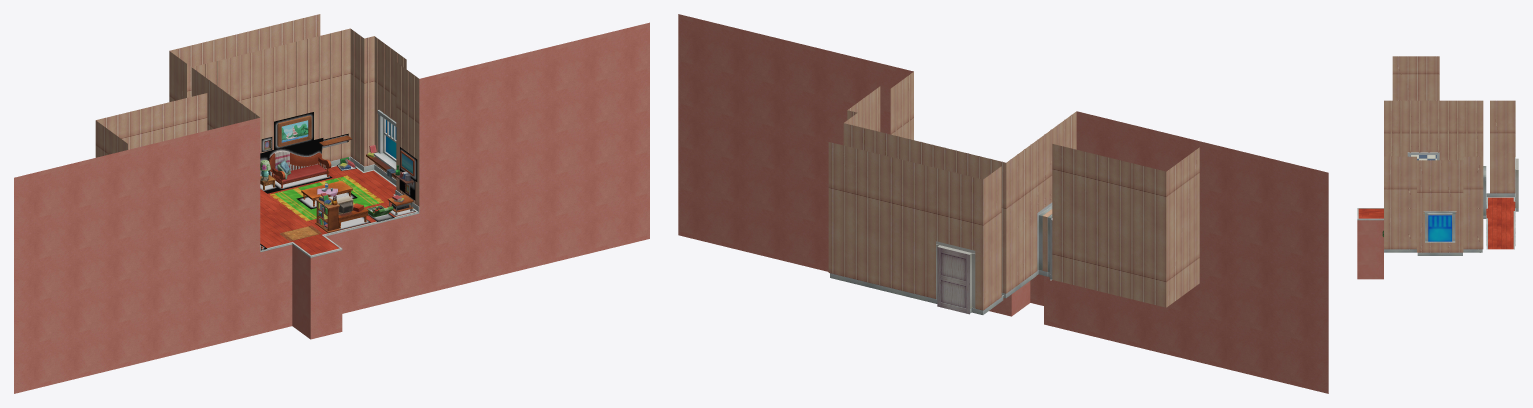
File: living_room.dae
3 renders of one model, left to right at view 1: azimuth 30°, elevation 25°; view 2: azimuth 150°, elevation 25°; view 3: azimuth 270°, elevation 25°, orthographic. The views are drawn at different scales.
Visible parts, largest first — view 1: vsn_mesh_21_mesh21, vsn_mesh_16_mesh16, vsn_mesh_3_mesh3, vsn_mesh_18_mesh18, vsn_mesh_22_mesh22, vsn_mesh_19_mesh19, vsn_mesh_2_mesh2, vsn_mesh_0_mesh0_001, vsn_mesh_10_mesh10, vsn_mesh_13_mesh13, vsn_mesh_8_mesh8, vsn_mesh_1_mesh1 (+1 smaller); view 2: vsn_mesh_21_mesh21, vsn_mesh_16_mesh16, vsn_mesh_11_mesh11, vsn_mesh_3_mesh3, vsn_mesh_6_mesh6; view 3: vsn_mesh_16_mesh16, vsn_mesh_3_mesh3, vsn_mesh_18_mesh18, vsn_mesh_21_mesh21, vsn_mesh_10_mesh10, vsn_mesh_6_mesh6, vsn_mesh_11_mesh11.
Boxes of the visible parts, bbox=[...] form: vsn_mesh_21_mesh21: bbox=[14, 22, 649, 393]; vsn_mesh_16_mesh16: bbox=[95, 14, 419, 206]; vsn_mesh_3_mesh3: bbox=[194, 30, 419, 257]; vsn_mesh_18_mesh18: bbox=[260, 166, 415, 255]; vsn_mesh_22_mesh22: bbox=[260, 133, 415, 250]; vsn_mesh_19_mesh19: bbox=[270, 175, 383, 221]; vsn_mesh_2_mesh2: bbox=[269, 152, 331, 188]; vsn_mesh_0_mesh0_001: bbox=[277, 115, 414, 176]; vsn_mesh_10_mesh10: bbox=[373, 110, 396, 170]; vsn_mesh_13_mesh13: bbox=[317, 145, 410, 228]; vsn_mesh_8_mesh8: bbox=[301, 152, 396, 228]; vsn_mesh_1_mesh1: bbox=[315, 135, 351, 233]; vsn_mesh_21_mesh21: bbox=[678, 14, 1328, 393]; vsn_mesh_16_mesh16: bbox=[828, 72, 1199, 310]; vsn_mesh_11_mesh11: bbox=[936, 241, 975, 314]; vsn_mesh_3_mesh3: bbox=[830, 75, 1064, 314]; vsn_mesh_6_mesh6: bbox=[1037, 202, 1052, 279]; vsn_mesh_16_mesh16: bbox=[1384, 56, 1515, 252]; vsn_mesh_3_mesh3: bbox=[1357, 101, 1518, 255]; vsn_mesh_18_mesh18: bbox=[1358, 197, 1515, 249]; vsn_mesh_21_mesh21: bbox=[1357, 220, 1383, 279]; vsn_mesh_10_mesh10: bbox=[1423, 211, 1456, 242]; vsn_mesh_6_mesh6: bbox=[1407, 152, 1486, 215]; vsn_mesh_11_mesh11: bbox=[1515, 157, 1518, 208].
Size of the model in its own units: 40 by 12.16 by 13.
Materials: 23 (23 with a texture image).
